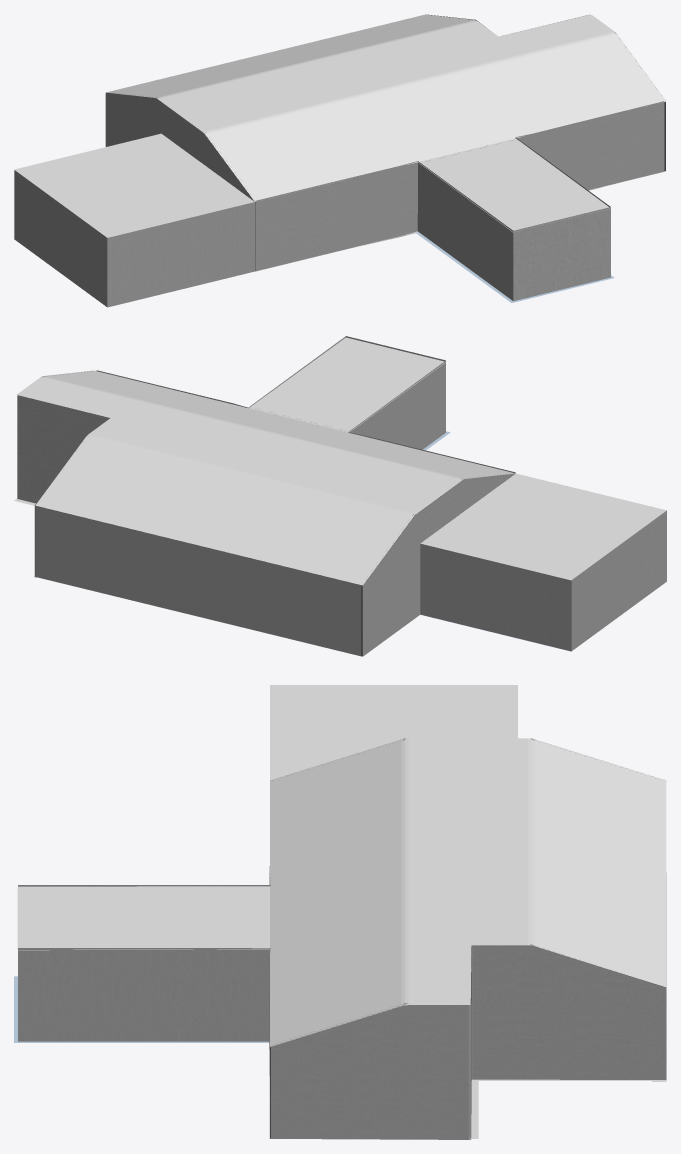
The model's file is room.glb.
3 renders of one model, top to bottom at view 1: azimuth 30°, elevation 25°; view 2: azimuth 150°, elevation 25°; view 3: azimuth 270°, elevation 25°, orthographic. The views are drawn at different scales.
Parts seen in each view (by area): view 1: Roof_virtual lab_3, Wall_virtual lab_2.001, Wall_lobby, Roof_lobby, Roof_social space, Roof_virtual lab_1, Wall_virtual lab_1, Ground_social space; view 2: Roof_virtual lab_3, Wall_virtual lab_2.002, Wall_lobby, Roof_lobby, Roof_social space, Wall_virtual lab_3, Wall_virtual lab_2.001, Wall_virtual lab_1, Roof_virtual lab_1; view 3: Roof_virtual lab_3, Wall_virtual lab_3, Wall_virtual lab_2.001, Roof_lobby, Roof_social space, Ground_virtual lab, Ground_social space.
Boxes of the visible parts, left/top/right/bottom form: Roof_virtual lab_3: left=106, top=14, right=666, bottom=201; Wall_virtual lab_2.001: left=255, top=101, right=664, bottom=301; Wall_lobby: left=14, top=170, right=254, bottom=307; Roof_lobby: left=14, top=133, right=254, bottom=237; Roof_social space: left=418, top=138, right=610, bottom=232; Roof_virtual lab_1: left=106, top=92, right=254, bottom=201; Wall_virtual lab_1: left=105, top=93, right=160, bottom=146; Ground_social space: left=415, top=232, right=614, bottom=302; Roof_virtual lab_3: left=16, top=370, right=515, bottom=585; Wall_virtual lab_2.002: left=35, top=505, right=360, bottom=656; Wall_lobby: left=420, top=510, right=666, bottom=651; Roof_lobby: left=420, top=473, right=666, bottom=580; Roof_social space: left=249, top=337, right=445, bottom=432; Wall_virtual lab_3: left=17, top=371, right=109, bottom=577; Wall_virtual lab_2.001: left=96, top=336, right=515, bottom=473; Wall_virtual lab_1: left=362, top=544, right=420, bottom=656; Roof_virtual lab_1: left=363, top=473, right=514, bottom=584; Roof_virtual lab_3: left=270, top=738, right=666, bottom=1046; Wall_virtual lab_3: left=270, top=944, right=666, bottom=1139; Wall_virtual lab_2.001: left=18, top=866, right=270, bottom=1075; Roof_lobby: left=270, top=685, right=517, bottom=780; Roof_social space: left=17, top=886, right=269, bottom=950; Ground_virtual lab: left=269, top=872, right=666, bottom=1138; Ground_social space: left=14, top=976, right=269, bottom=1042.
Size of the model in its own units: 28.03 by 4.91 by 21.37.
49 materials, 5 textured.
